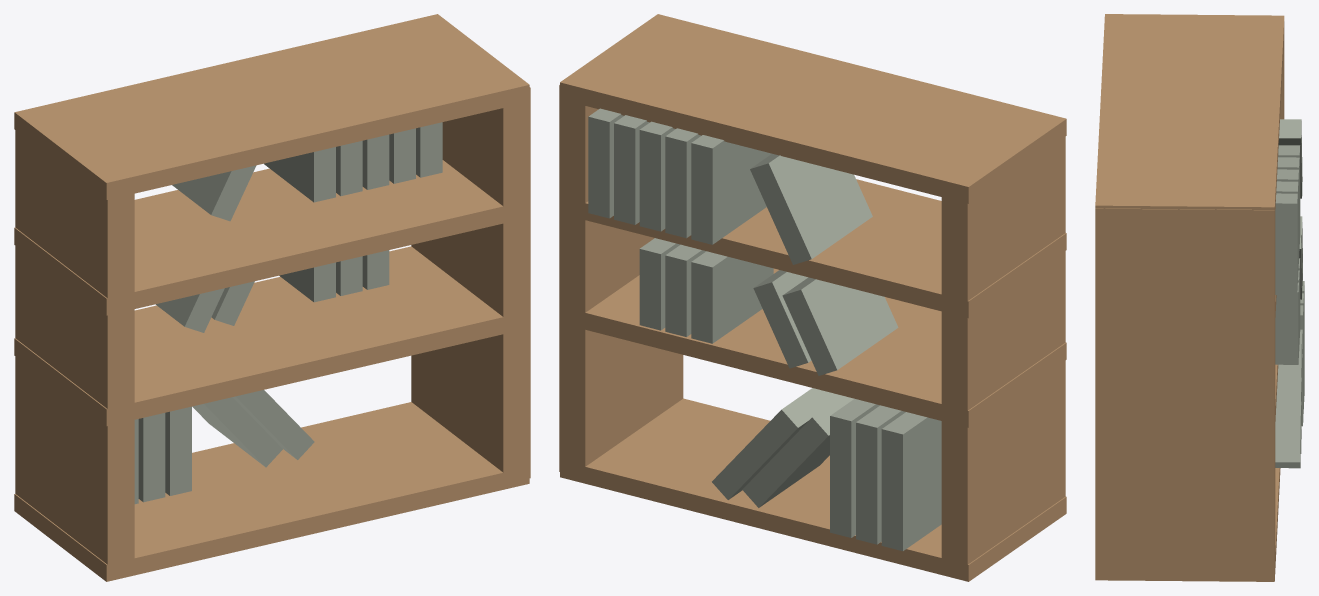
File: bookself.fbx
The picture shows the model from 3 angles, left to right: view 1: azimuth 30°, elevation 25°; view 2: azimuth 150°, elevation 25°; view 3: azimuth 270°, elevation 25°; orthographic projection. The views are drawn at different scales.
Visible parts, largest first — view 1: pCube9, pCube11, pCube7, pCube8, pCube12, pCube10, book18, book26, book16, book25, book19, book17 (+9 smaller); view 2: pCube9, pCube11, pCube10, pCube7, pCube8, pCube12, book25, book, book20, book26, book22, book19 (+10 smaller); view 3: pCube10, pCube9, book19, book30, book24, pCube7, book25, book29, book26, book27, book28, book17.
Boxes of the visible parts, x1,y1,x2,y2 form: pCube9: [14, 14, 529, 199]; pCube11: [15, 130, 134, 576]; pCube7: [14, 402, 529, 581]; pCube8: [14, 246, 519, 426]; pCube12: [14, 160, 521, 315]; pCube10: [411, 87, 530, 483]; book18: [192, 397, 282, 467]; book26: [264, 147, 335, 202]; book16: [138, 413, 165, 502]; book25: [172, 165, 256, 221]; book19: [232, 390, 314, 459]; book17: [165, 406, 191, 495]; pCube9: [560, 14, 1066, 203]; pCube11: [941, 136, 1065, 572]; pCube10: [559, 85, 683, 478]; pCube7: [560, 398, 1066, 581]; pCube8: [560, 268, 1066, 427]; pCube12: [560, 179, 1066, 318]; book25: [750, 153, 872, 264]; book: [881, 412, 941, 551]; book20: [782, 277, 898, 375]; book26: [691, 135, 771, 244]; book22: [691, 251, 773, 343]; book19: [712, 388, 842, 499]; pCube10: [1095, 208, 1275, 577]; pCube9: [1095, 14, 1284, 221]; book19: [1275, 344, 1302, 468]; book30: [1275, 193, 1297, 294]; book24: [1275, 282, 1298, 364]; pCube7: [1095, 468, 1280, 581]; book25: [1278, 119, 1302, 198]; book29: [1276, 181, 1298, 282]; book26: [1278, 145, 1300, 243]; book27: [1277, 157, 1299, 257]; book28: [1277, 169, 1298, 270]; book17: [1300, 305, 1303, 426].
Bounding box in the file's own units: 353 × 319 × 162.
